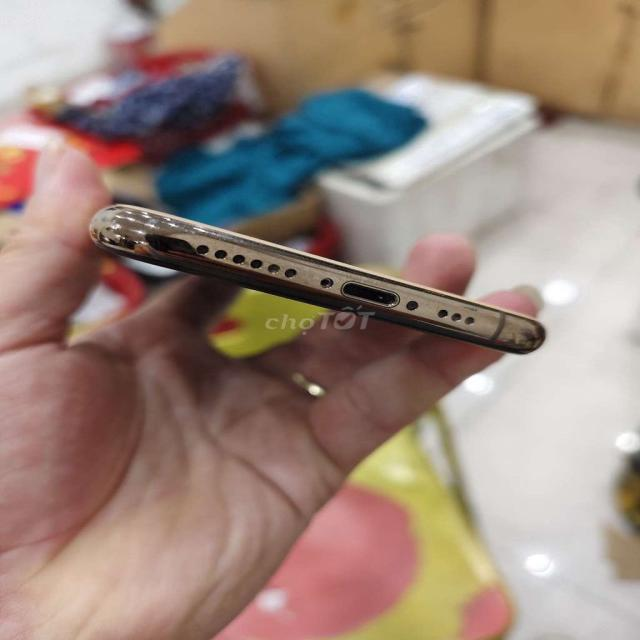gen_11: (90, 204, 543, 354)
